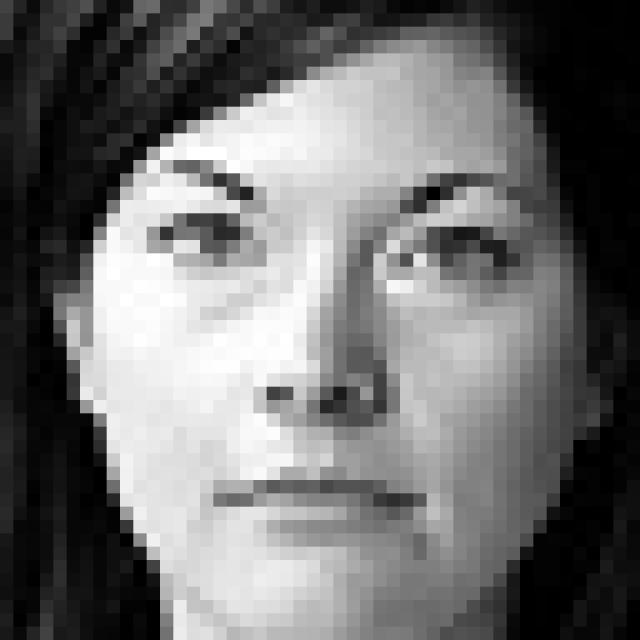neutral: (130, 142, 558, 553)
